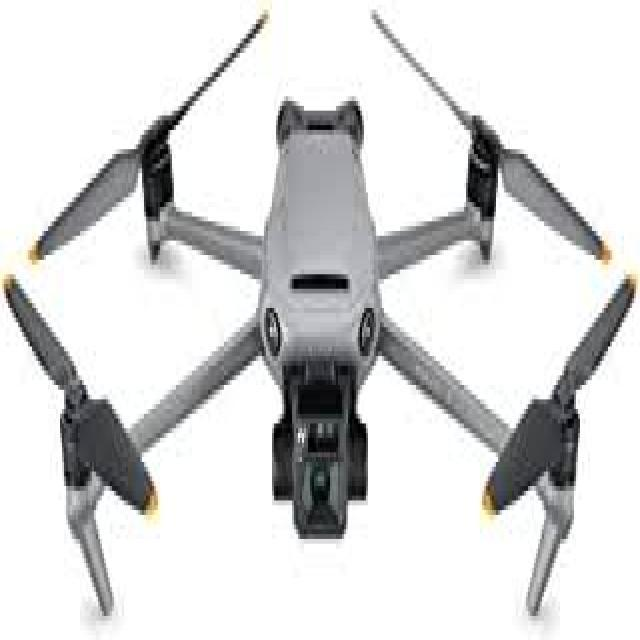drone: (25, 0, 623, 640)
